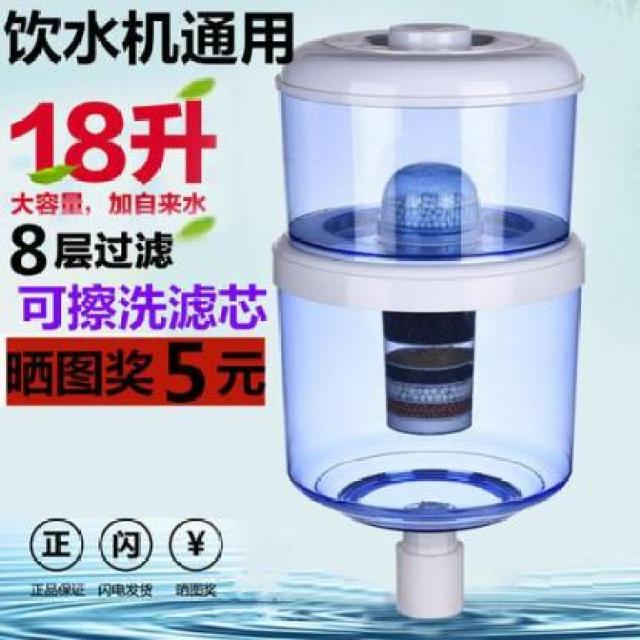coolerbottle: (260, 14, 595, 542)
